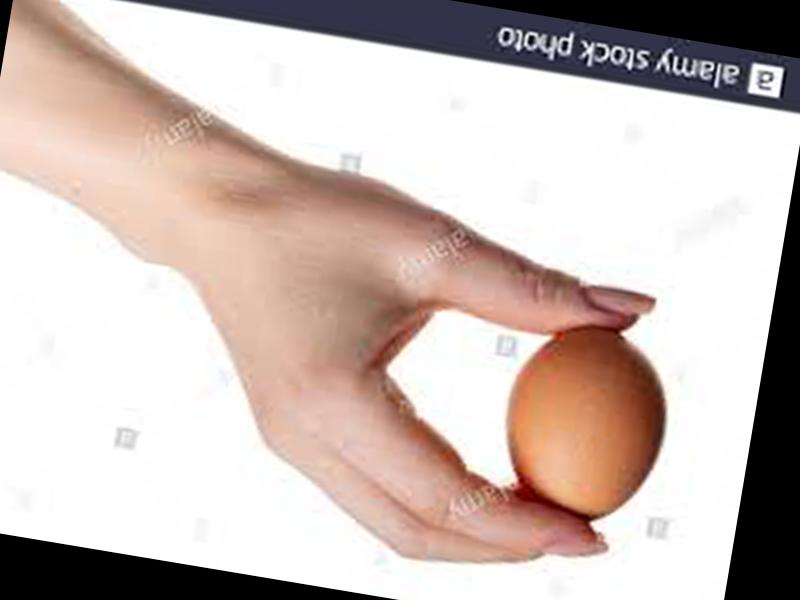Eggs: (488, 318, 677, 530)
